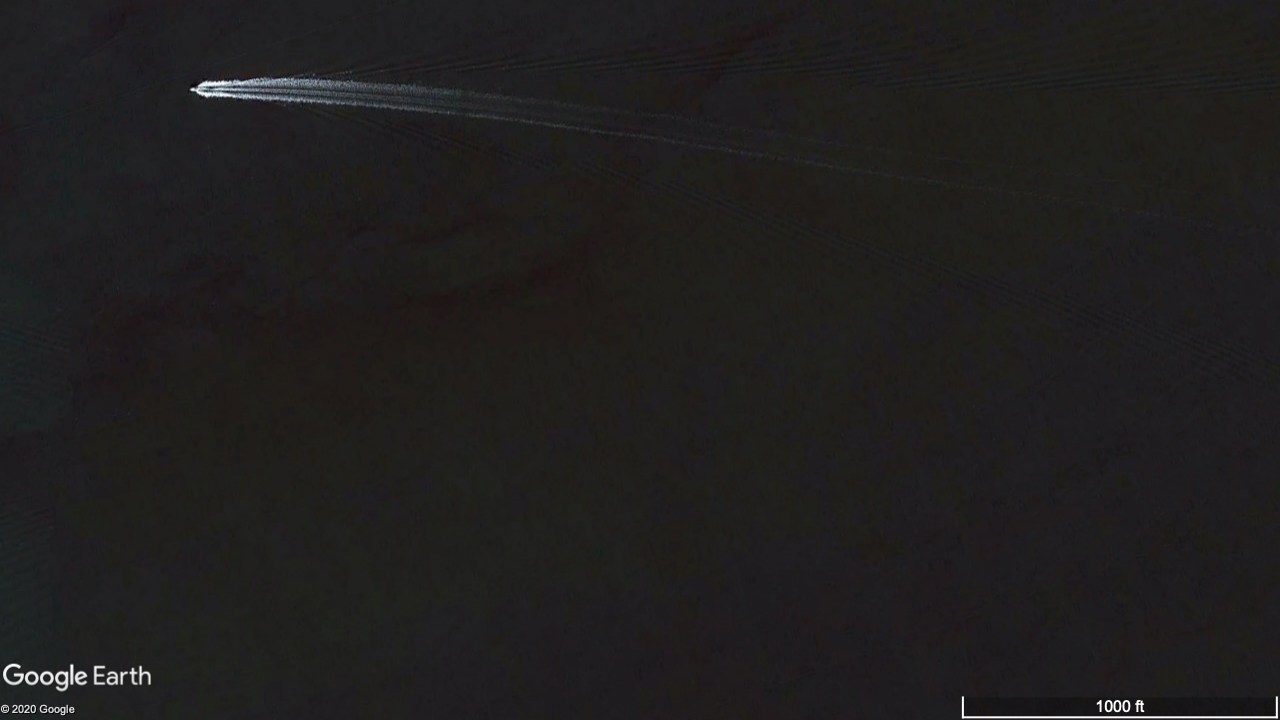satboat: (189, 87, 207, 92)
